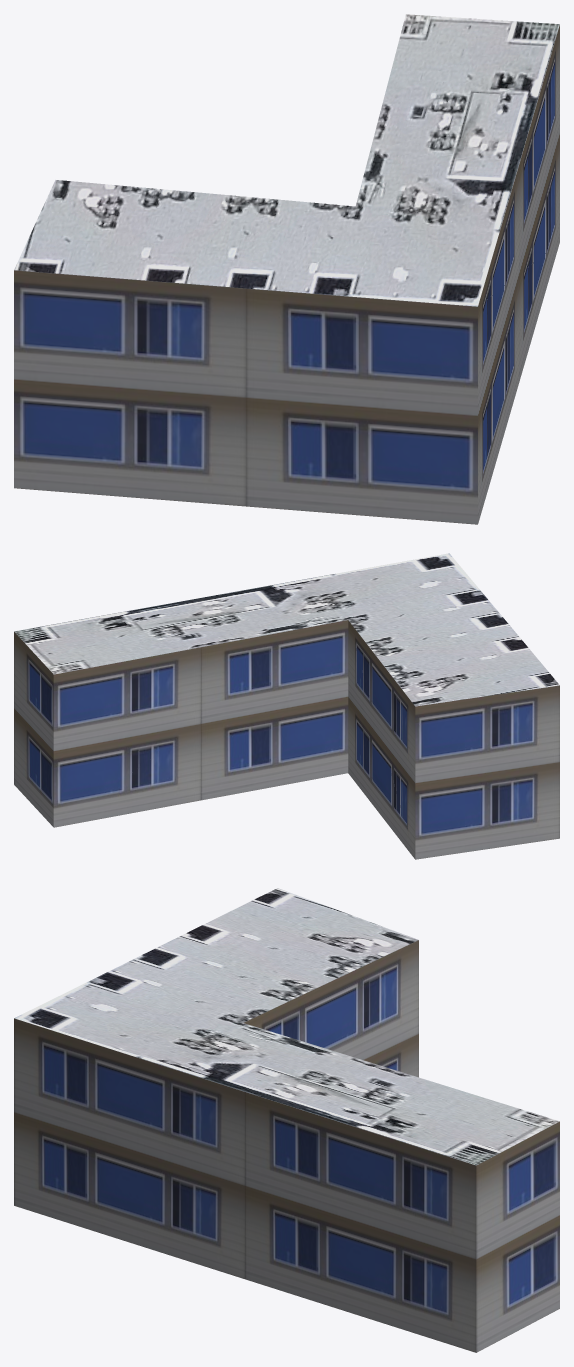
The model's file is ResTex__4977.fbx.
3 views of the same model, one above another, from view 1: azimuth 30°, elevation 25°; view 2: azimuth 150°, elevation 25°; view 3: azimuth 270°, elevation 25° (orthographic). The views are drawn at different scales.
Visible parts, largest first — view 1: CityEngineMaterial_23_m, CityEngineMaterial_m; view 2: CityEngineMaterial_23_m, CityEngineMaterial_m; view 3: CityEngineMaterial_23_m, CityEngineMaterial_m.
Boxes of the visible parts, left/top/right/bottom form: CityEngineMaterial_23_m: left=14, top=25, right=559, bottom=524; CityEngineMaterial_m: left=14, top=14, right=559, bottom=306; CityEngineMaterial_23_m: left=14, top=620, right=559, bottom=859; CityEngineMaterial_m: left=14, top=553, right=559, bottom=706; CityEngineMaterial_23_m: left=14, top=940, right=559, bottom=1352; CityEngineMaterial_m: left=14, top=888, right=559, bottom=1165.
Size of the model in its own units: 19.05 by 6 by 15.84.
Materials: 2 (2 with a texture image).
